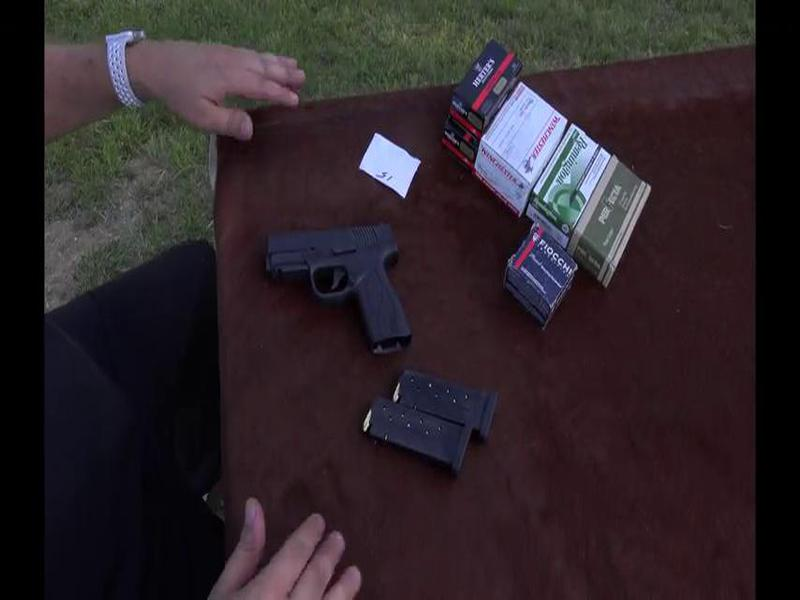Pistola: (261, 219, 430, 359)
